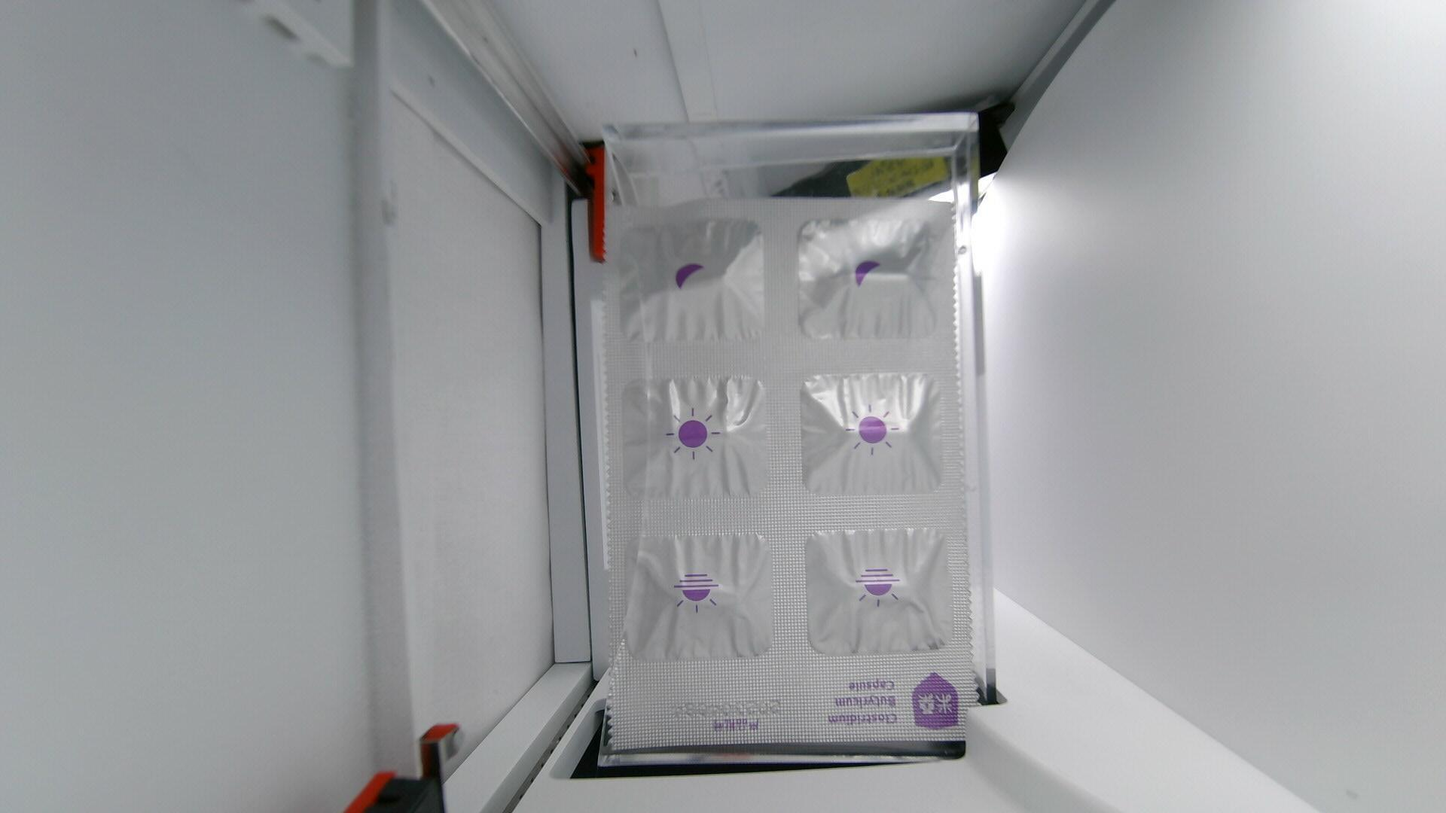Pill Back: (608, 218, 770, 346), (804, 527, 950, 655), (625, 534, 773, 659), (796, 218, 943, 340), (618, 376, 764, 496), (803, 368, 941, 494)
